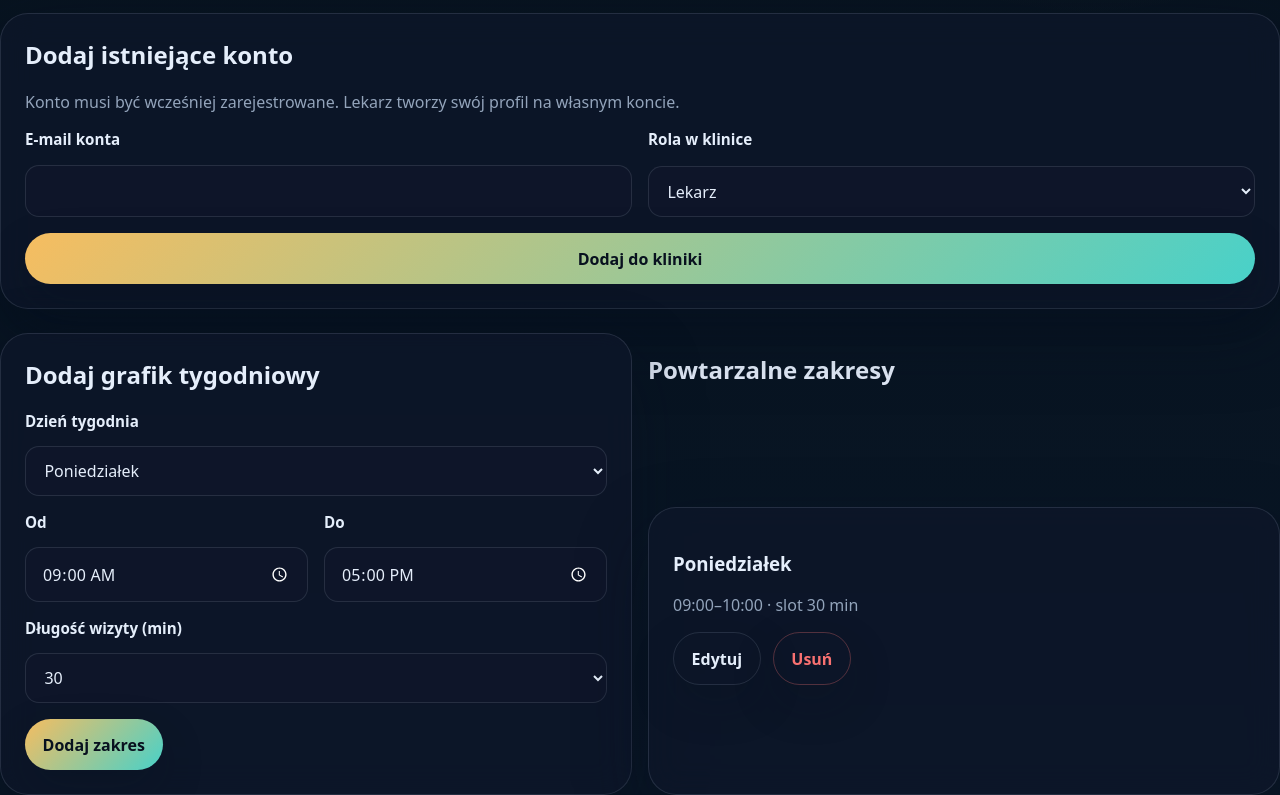
it: ClinicSchedule page › resets the schedule editor when changing doctors
(page scrolled)
Expected: the text "09:00–10:00 · slot 30 min" is shown, [673,594,858,616]
Step 1. Click the button "Edytuj" → point(717, 659), box [673,632,761,685]
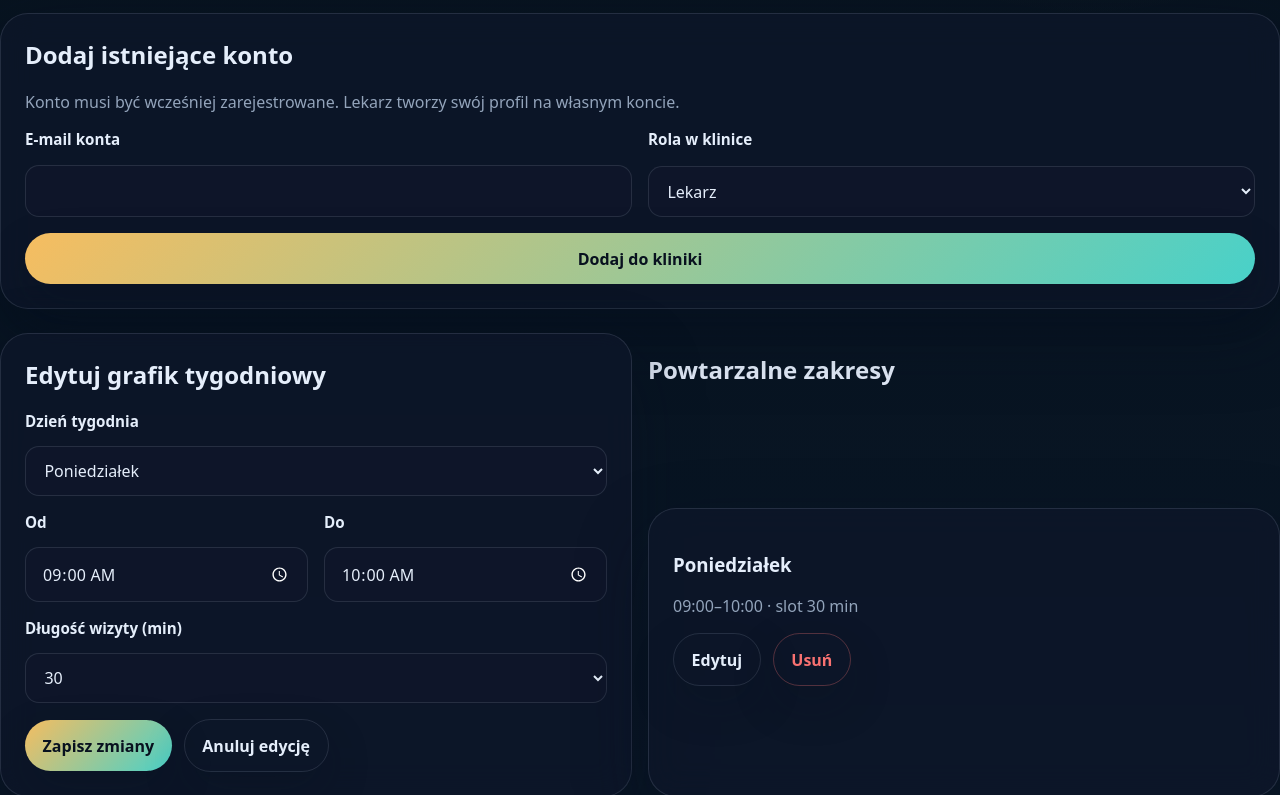
Step 2. Replace the text in the time field labelled "Od" with "09:30" → point(166, 575), box [25,547,308,602]
(page scrolled)
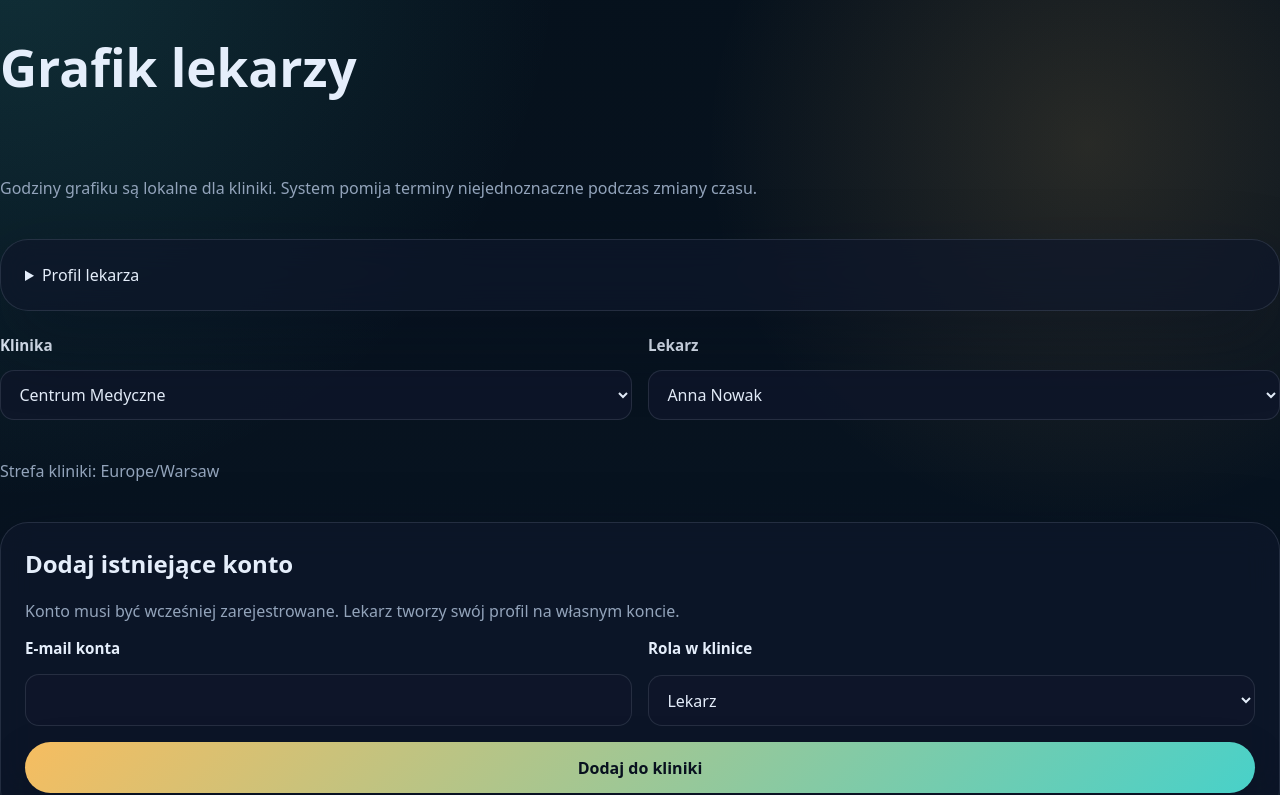
Step 3. Select "Piotr Kowalski" in the dropdown labelled "Lekarz" → point(964, 395), box [648,370,1279,420]
(page scrolled)
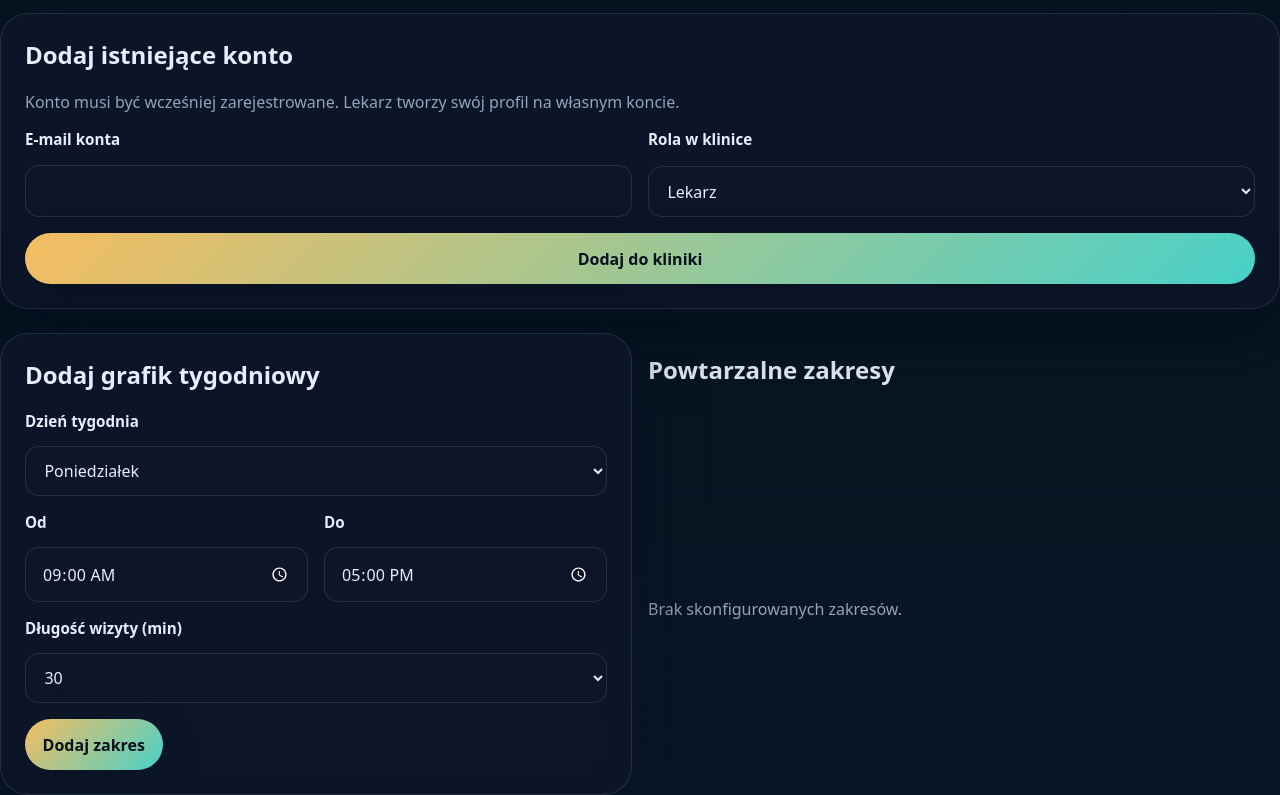
Expected: the button "Dodaj zakres" is shown, [25,719,162,770]
Expected: the time field labelled "Od" holds "09:00", [25,547,308,602]
